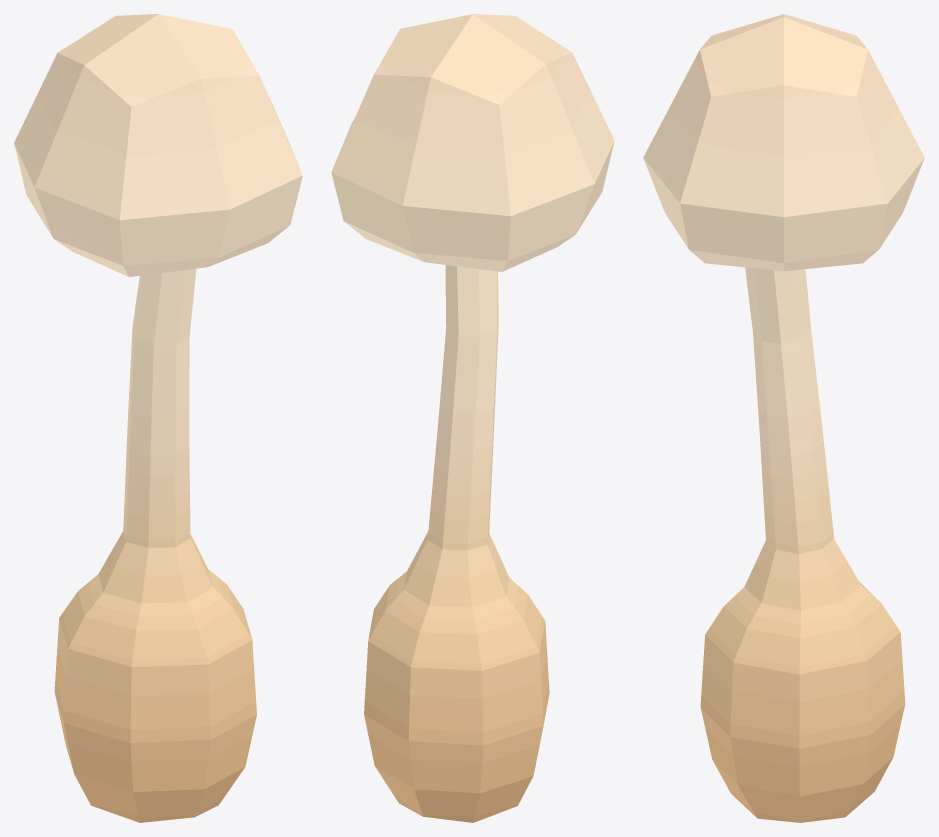
File: Small_DestroyingAngel.glb
The picture shows the model from 3 angles, left to right: view 1: azimuth 30°, elevation 25°; view 2: azimuth 150°, elevation 25°; view 3: azimuth 270°, elevation 25°; orthographic projection.
Parts seen in each view (by area): view 1: DestroyA_small; view 2: DestroyA_small; view 3: DestroyA_small.
Boxes of the visible parts, x1=… form: DestroyA_small: x1=14, y1=14, x2=302, y2=822; DestroyA_small: x1=331, y1=14, x2=614, y2=822; DestroyA_small: x1=643, y1=14, x2=924, y2=822.
Bounding box in the file's own units: 1.77 × 5.49 × 1.77.
Materials: 1 (1 with a texture image).
